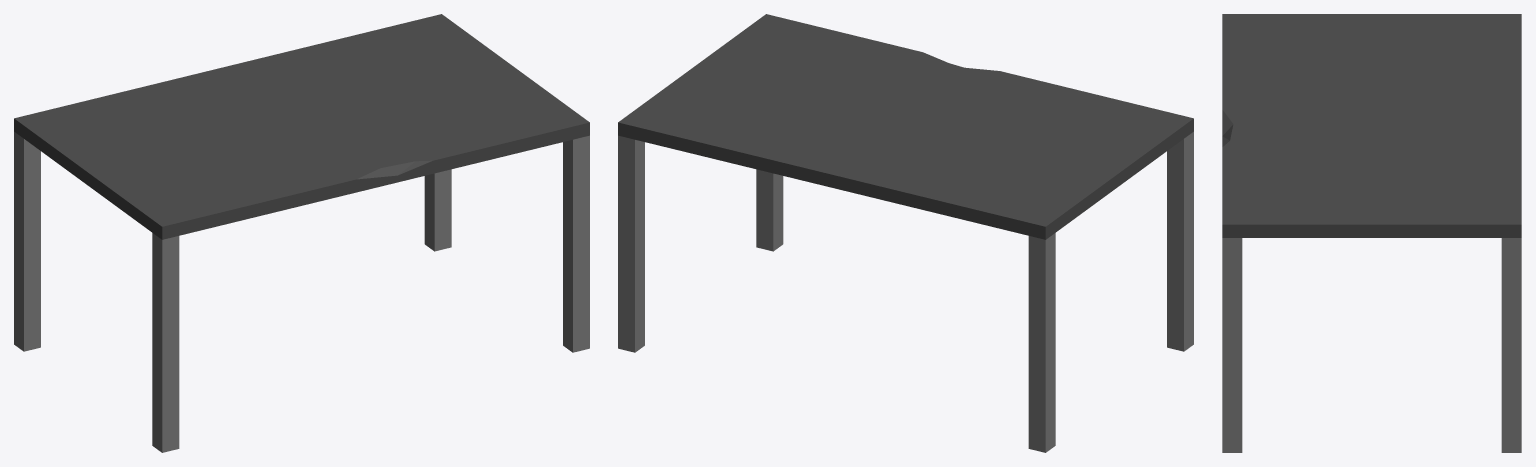
Rendered from Wh_Modular_Shelf.fbx.
3 renders of one model, left to right at view 1: azimuth 30°, elevation 25°; view 2: azimuth 150°, elevation 25°; view 3: azimuth 270°, elevation 25°, orthographic.
Parts seen in each view (by area): view 1: Cube.708; view 2: Cube.708; view 3: Cube.708.
Boxes of the visible parts, x1,y1,x2,y2 form: Cube.708: [14, 14, 589, 452]; Cube.708: [618, 14, 1193, 452]; Cube.708: [1222, 14, 1521, 452].
Bounding box in the file's own units: 250 × 126 × 150.
